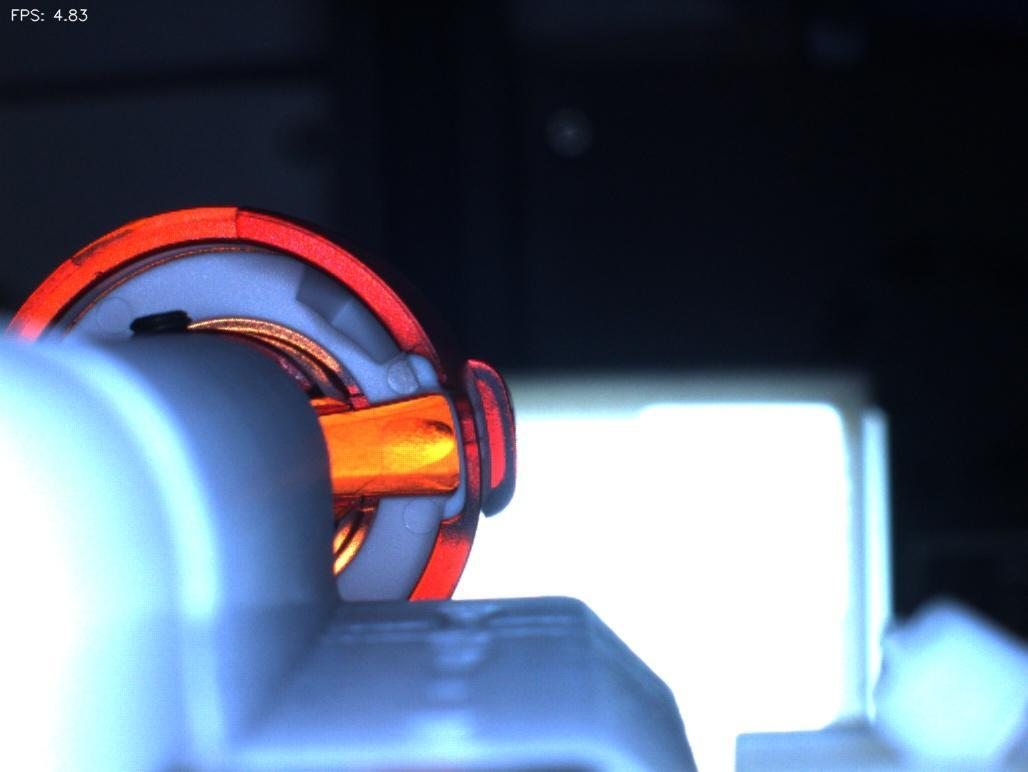Retassure: (364, 405, 460, 481)
